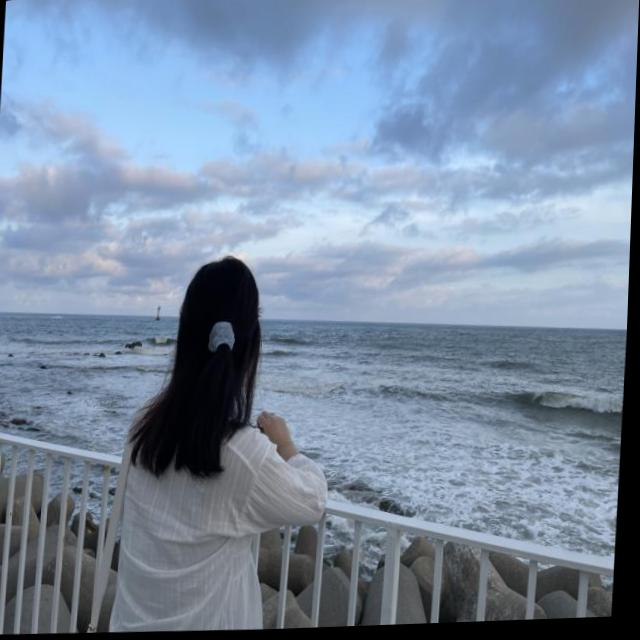no helmet: (142, 246, 298, 428)
